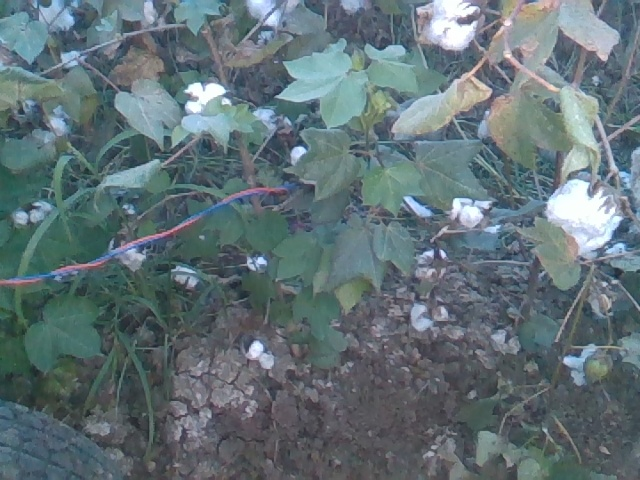cotton: (540, 174, 626, 257), (413, 1, 486, 51), (237, 1, 298, 53), (176, 75, 235, 120), (449, 190, 498, 235), (26, 1, 84, 38), (563, 344, 606, 384), (240, 340, 277, 371), (407, 304, 433, 335), (170, 265, 202, 287)
